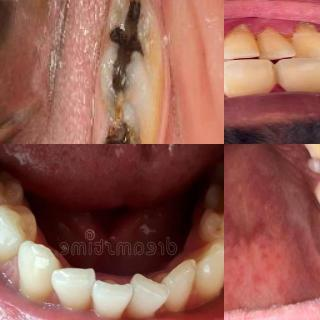Gum Swelling: (301, 144, 320, 192)
calculus: (224, 22, 252, 56), (291, 20, 320, 51), (252, 26, 284, 54)
maligned: (86, 276, 138, 320), (128, 265, 167, 320), (49, 262, 101, 302), (257, 29, 295, 64), (289, 21, 320, 63), (299, 144, 320, 164)
